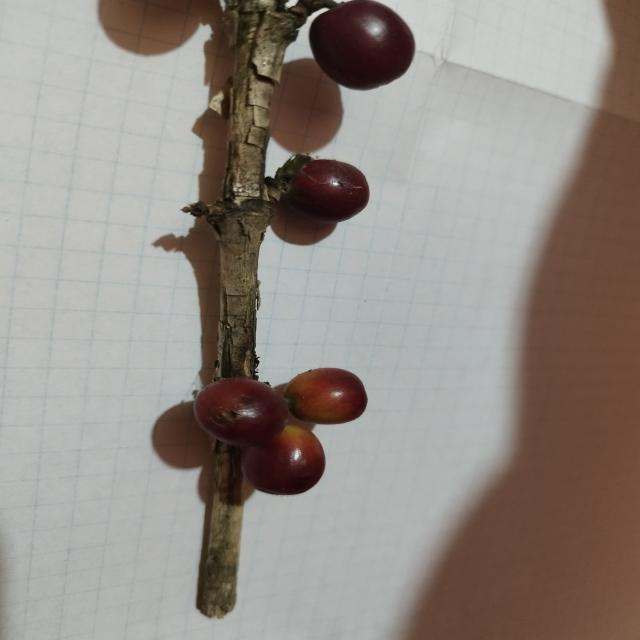Infectado: (193, 378, 289, 448)
Sano: (309, 0, 416, 90), (241, 424, 325, 496), (287, 160, 370, 224), (283, 368, 368, 425)
